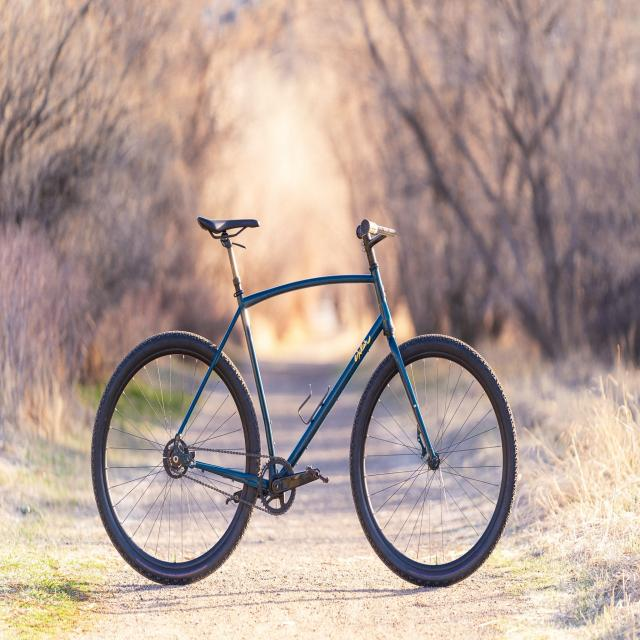bicycle: (79, 172, 548, 587)
